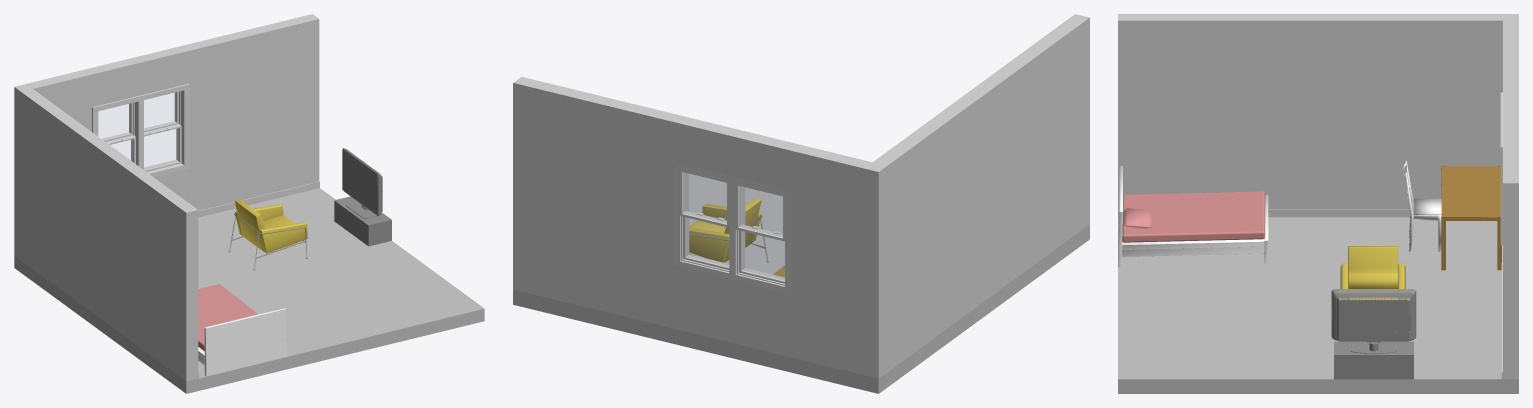
The model's file is L16_W16_furniture3_privacy1.glb.
3 renders of one model, left to right at view 1: azimuth 30°, elevation 25°; view 2: azimuth 150°, elevation 25°; view 3: azimuth 270°, elevation 25°, orthographic. The views are drawn at different scales.
Bounding box in the file's own units: 200 × 116 × 200.
